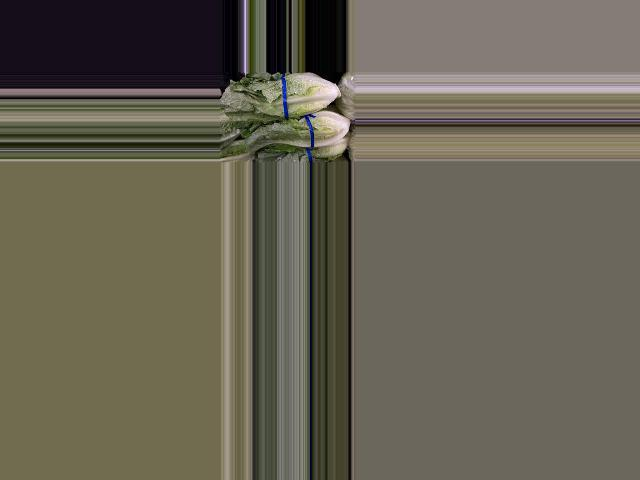lettuce: (243, 110, 351, 156)
